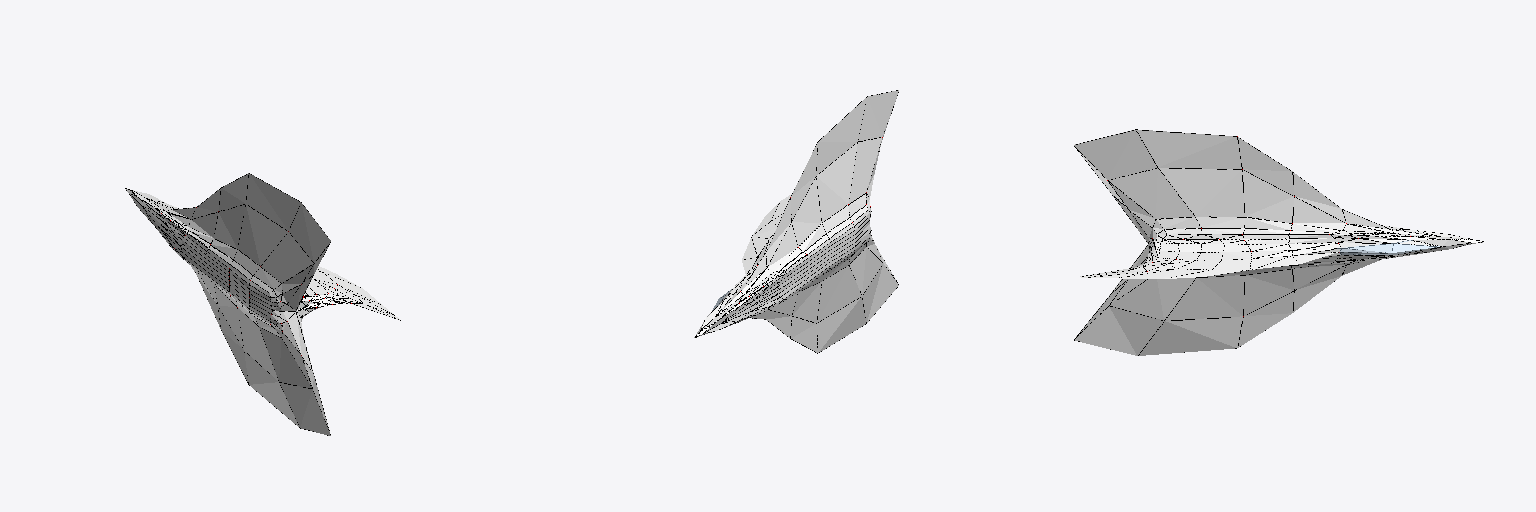
3 views of the same model, side by side, from view 1: azimuth 30°, elevation 25°; view 2: azimuth 150°, elevation 25°; view 3: azimuth 270°, elevation 25° (orthographic).
Visible parts, largest first — view 1: Cube; view 2: Cube; view 3: Cube.
Part boxes in pixels (x1,y1,x2,y2): Cube: (125, 173, 400, 435); Cube: (694, 90, 898, 353); Cube: (1074, 129, 1484, 355).
Bounding box in the file's own units: 6.26 × 14.38 × 23.74.
Materials: 1 (1 with a texture image).